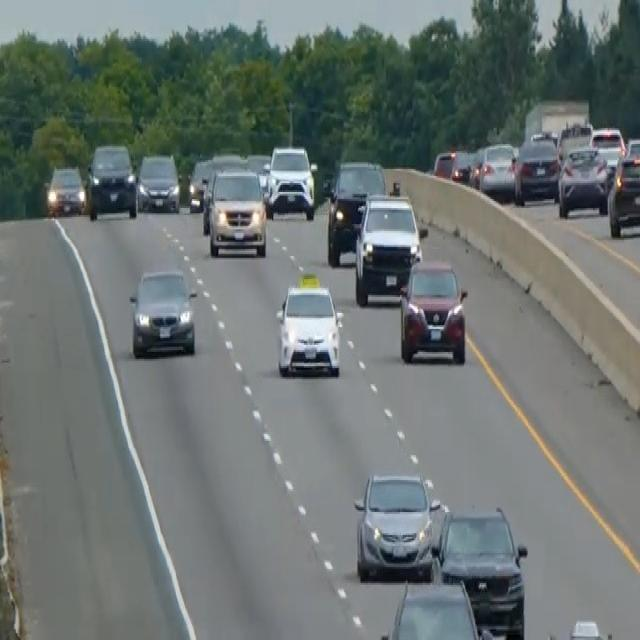car: (434, 503, 528, 638), (353, 470, 446, 580), (353, 185, 423, 306), (274, 268, 343, 381), (398, 258, 468, 364), (379, 576, 496, 638), (326, 156, 386, 265), (128, 265, 197, 357), (86, 140, 138, 218), (264, 142, 315, 220), (557, 144, 610, 219), (512, 132, 560, 204), (201, 151, 244, 228), (607, 146, 639, 236), (136, 150, 180, 213), (477, 140, 517, 198), (45, 162, 85, 217), (589, 124, 626, 178), (556, 119, 592, 162), (432, 146, 473, 183), (187, 156, 212, 212), (246, 151, 271, 199), (467, 144, 485, 188), (210, 150, 244, 172), (432, 148, 455, 180)
minivan: (202, 164, 268, 258)
